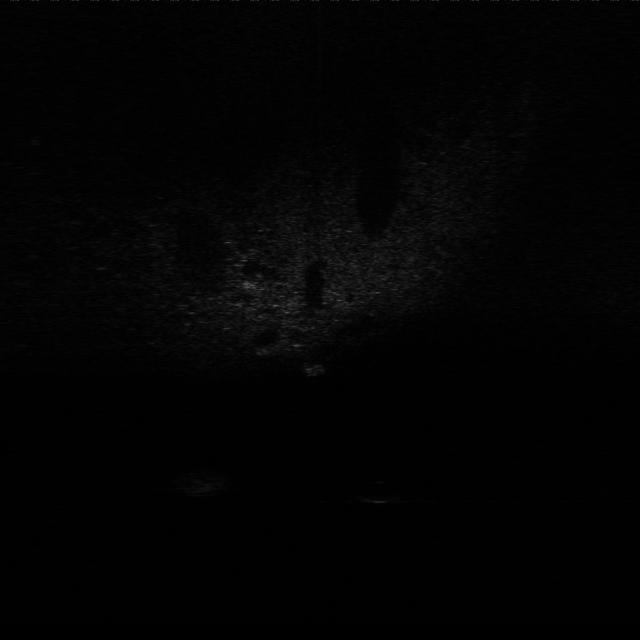ball: (363, 478, 401, 503)
circle cage: (177, 465, 232, 497)
cube: (298, 354, 329, 380)
